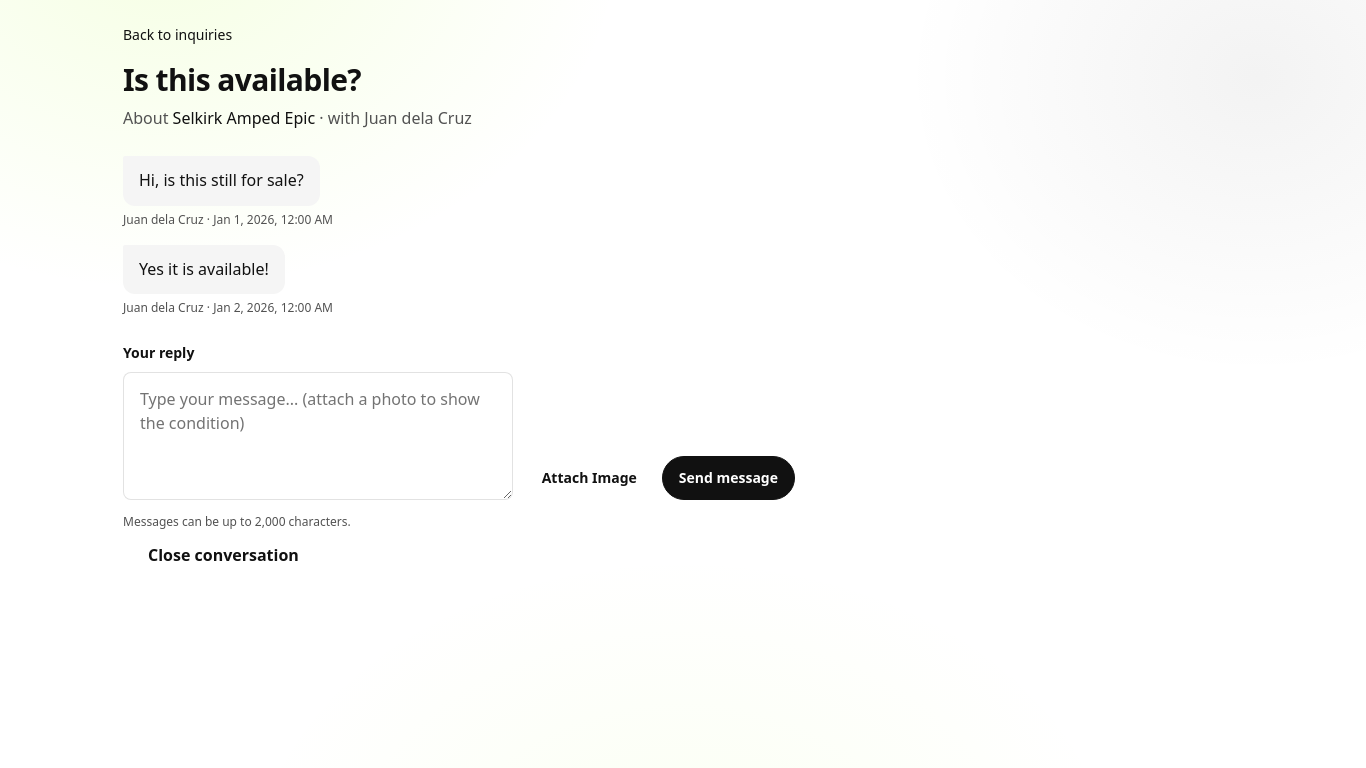
Test: InquiryDetailPage › closes the conversation from the close button
Click the button "Close conversation" at [223, 555], box [123, 531, 324, 580]
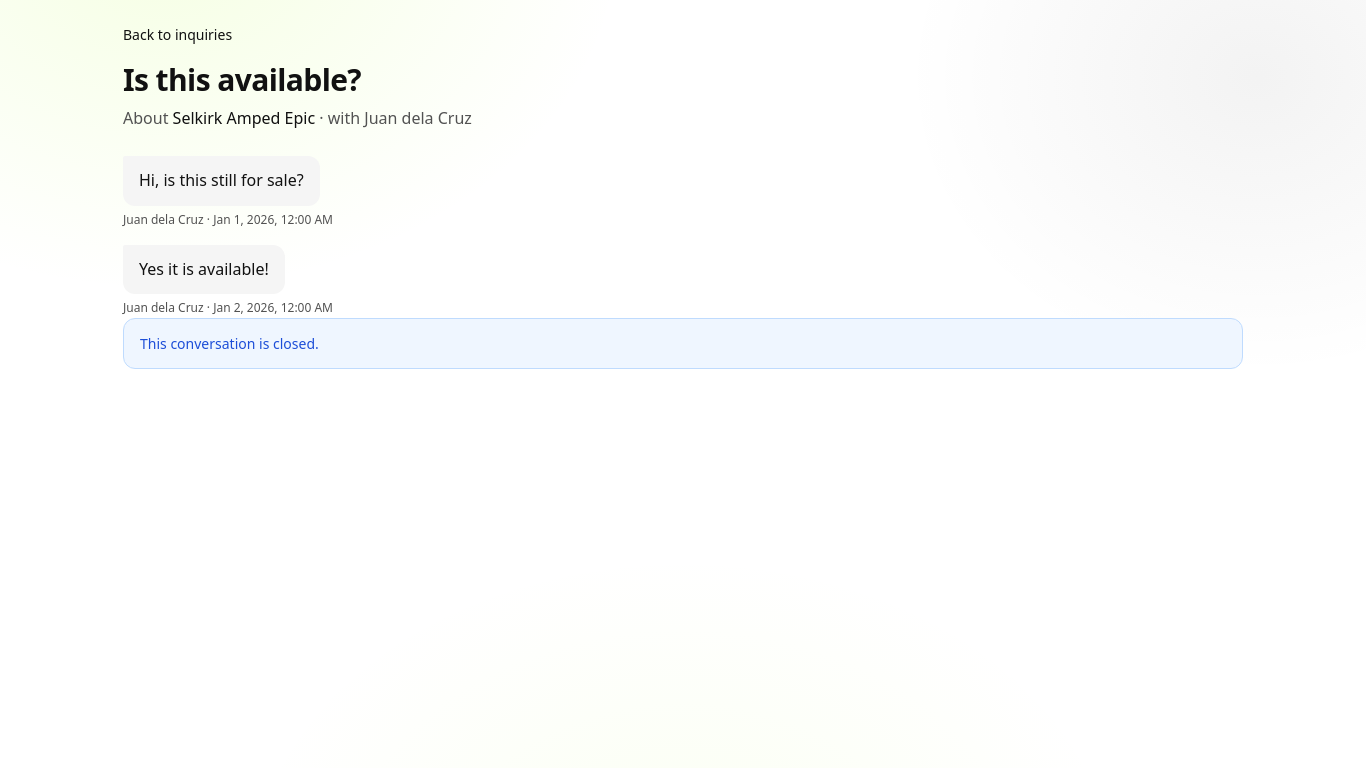
Check: the text "This conversation is closed." is shown, box [123, 318, 1243, 368]
